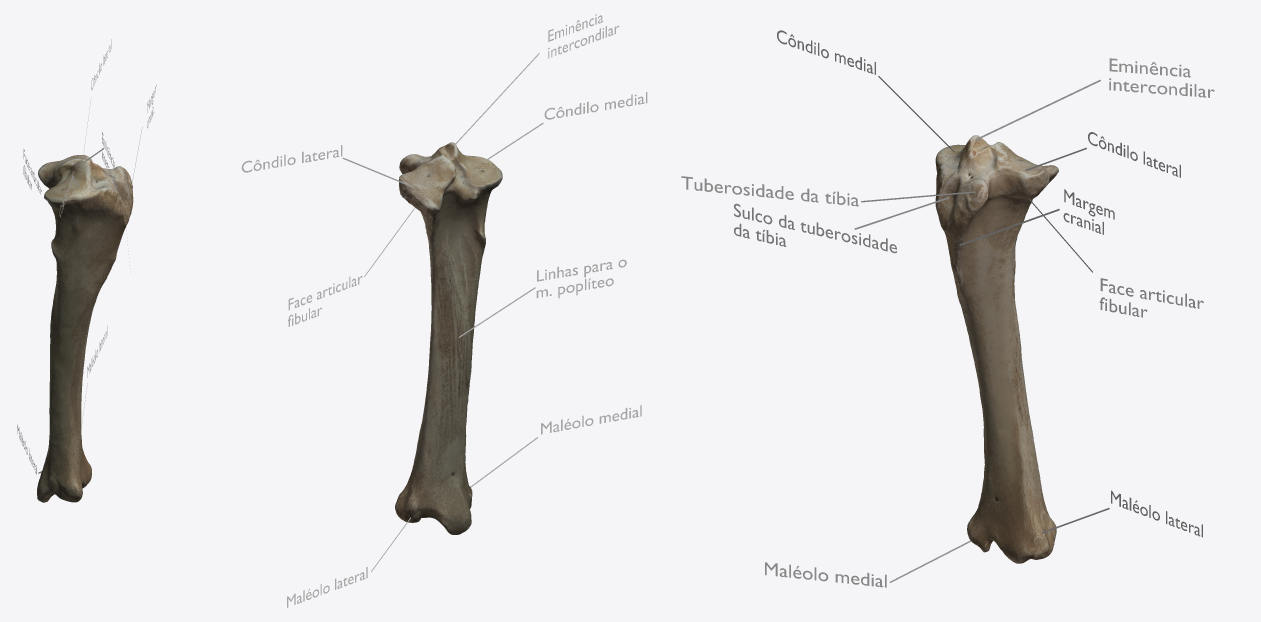
File: Tíbia.glb
The picture shows the model from 3 angles, left to right: view 1: azimuth 30°, elevation 25°; view 2: azimuth 150°, elevation 25°; view 3: azimuth 270°, elevation 25°; orthographic projection. The views are drawn at different scales.
Parts seen in each view (by area): view 1: 3DModel; view 2: 3DModel, Texto.077, Texto.036; view 3: 3DModel, Texto.003, Texto.007, Texto.022, Texto.075.
Boxes of the visible parts, x1,y1,x2,y2 form: 3DModel: [37, 155, 133, 502]; 3DModel: [395, 142, 502, 534]; Texto.077: [536, 259, 626, 298]; Texto.036: [548, 14, 618, 58]; 3DModel: [935, 135, 1058, 563]; Texto.003: [734, 203, 896, 253]; Texto.007: [1109, 58, 1214, 97]; Texto.022: [681, 176, 858, 206]; Texto.075: [1099, 278, 1203, 317].
Size of the model in its own units: 1.79 by 3.14 by 2.93.
Materials: 1 (1 with a texture image).
